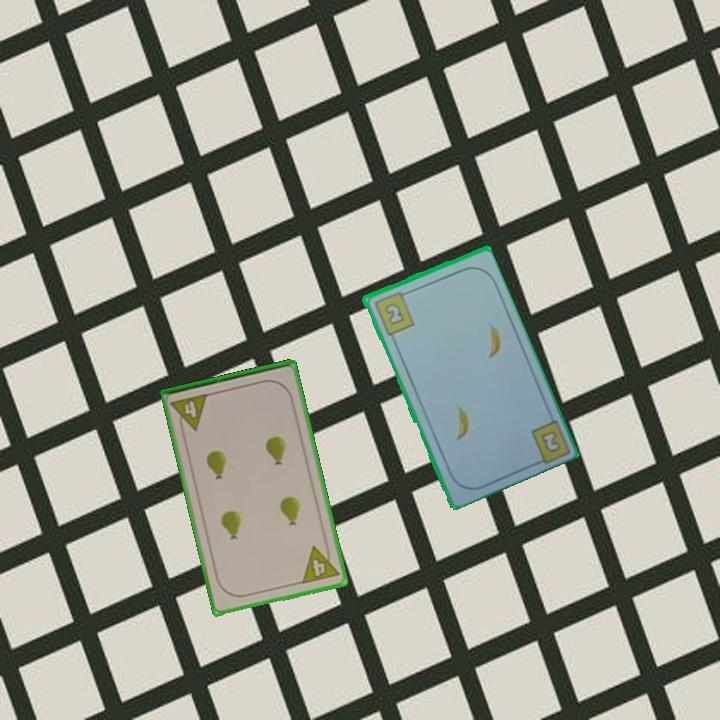2b: (370, 288, 417, 338), (539, 429, 561, 453)
4p: (298, 540, 342, 587), (167, 390, 211, 436)
